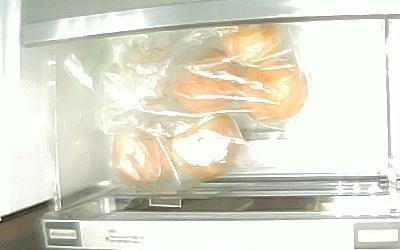peach_vinyl: (165, 114, 236, 181), (172, 46, 238, 112), (239, 58, 307, 120), (112, 130, 172, 187), (216, 23, 282, 67)
